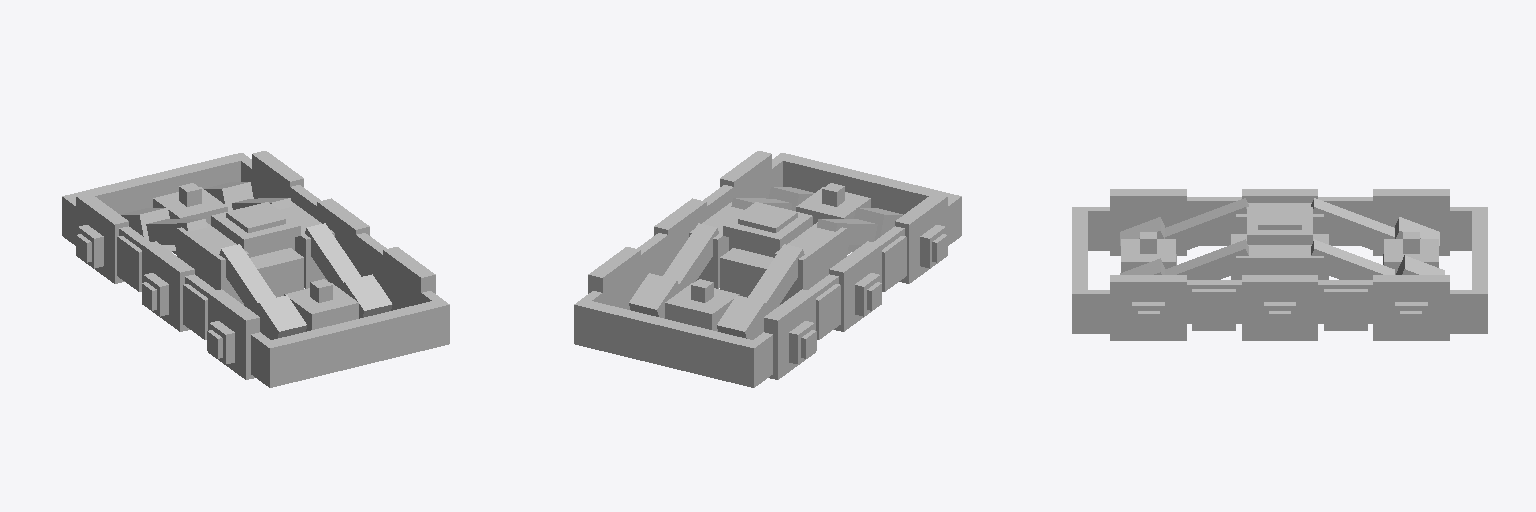
File: frame.obj
3 renders of one model, left to right at view 1: azimuth 30°, elevation 25°; view 2: azimuth 150°, elevation 25°; view 3: azimuth 270°, elevation 25°, orthographic.
Visible parts, largest first — view 1: cube_34, cube_18, cube_15, cube_46, cube_32, cube_31, cube_22, cube_1, cube_17, cube_7, cube_5, cube_36 (+20 smaller); view 2: cube_18, cube_34, cube_15, cube_22, cube_36, cube_31, cube_32, cube_2, cube_16, cube_11, cube_5, cube_46 (+20 smaller); view 3: cube_36, cube_46, cube_37, cube_22, cube_32, cube_6, cube_16, cube_17, cube_38, cube_48, cube_7, cube_11 (+22 smaller).
Part boxes in pixels (x1,y1,x2,y2): cube_34: (272,301,440,385); cube_18: (72,155,240,214); cube_15: (177,222,248,304); cube_46: (383,247,435,310); cube_32: (208,289,259,379); cube_31: (142,241,194,331); cube_22: (76,193,128,283); cube_1: (284,283,358,331); cube_17: (219,244,275,313); cube_7: (305,223,360,289); cube_5: (244,248,303,306); cube_36: (252,151,303,198); cube_18: (583,301,751,385); cube_34: (783,155,951,214); cube_15: (775,222,846,304); cube_22: (764,289,815,379); cube_36: (588,247,640,309); cube_31: (829,241,881,331); cube_32: (895,193,947,283); cube_2: (665,283,739,331); cube_16: (748,244,804,313); cube_11: (663,223,718,290); cube_5: (720,248,779,306); cube_46: (720,151,771,198); cube_36: (1373,275,1449,340); cube_46: (1110,275,1186,340); cube_37: (1242,275,1317,340); cube_22: (1373,189,1449,255); cube_32: (1110,189,1186,255); cube_6: (1236,245,1323,279); cube_16: (1311,198,1394,253); cube_17: (1165,198,1248,253); cube_38: (1324,289,1367,330); cube_48: (1192,289,1235,330); cube_7: (1165,239,1248,279); cube_11: (1311,239,1394,279).
Bounding box in the file's own units: 2.88 × 1.01 × 4.75.